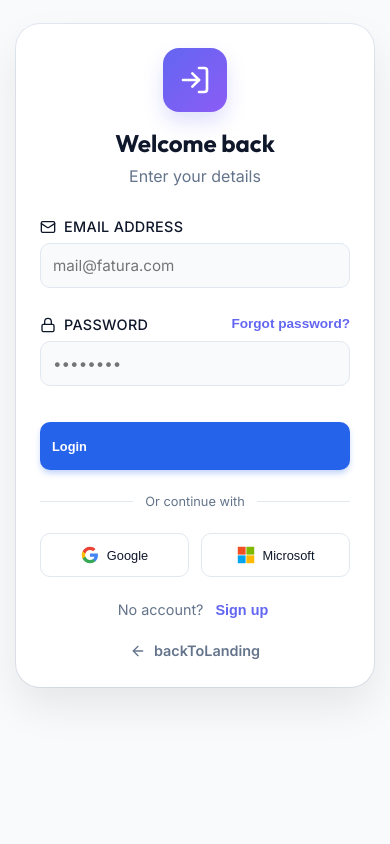
Test case: Auth page integration › requires an email before requesting a password reset link
Click the button "Forgot password?": (291, 324) left=231, top=316, right=350, bottom=333
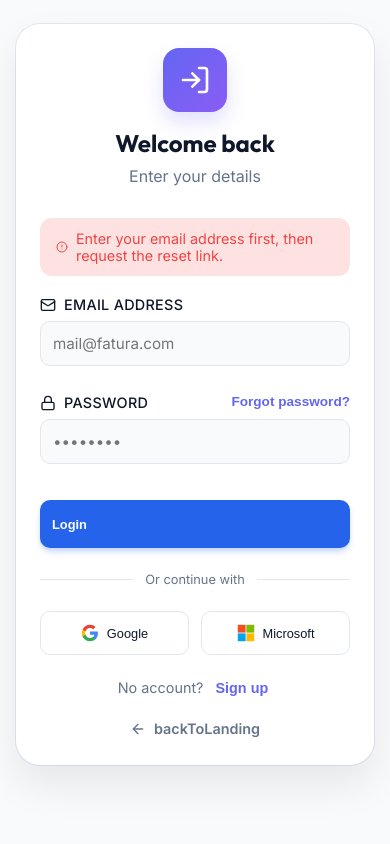
Check: the text "Enter your email address first, then request the reset link." is shown, box left=40, top=218, right=350, bottom=276
